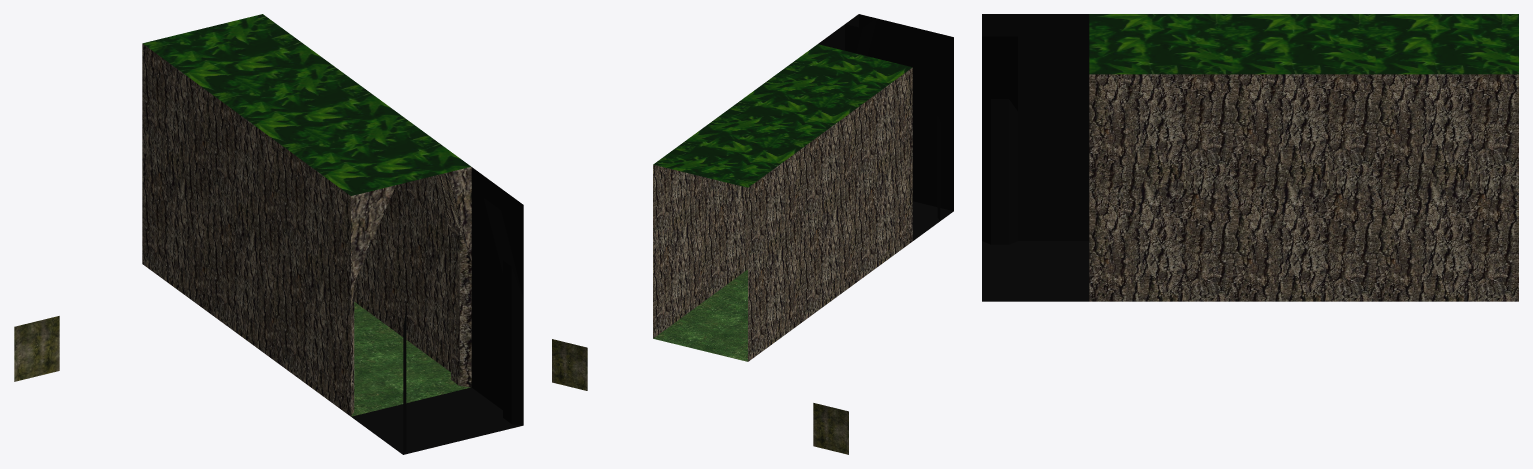
The model's file is woods1Entrance.gltf.
3 renders of one model, left to right at view 1: azimuth 30°, elevation 25°; view 2: azimuth 150°, elevation 25°; view 3: azimuth 270°, elevation 25°, orthographic. The views are drawn at different scales.
Parts seen in each view (by area): view 1: woods1Entrance; view 2: woods1Entrance; view 3: woods1Entrance.
Part boxes in pixels (x1,y1,x2,y2): woods1Entrance: (14,14,523,454); woods1Entrance: (552,14,953,454); woods1Entrance: (982,14,1518,301).
Bounding box in the file's own units: 25 × 19.5 × 30.
8 materials, 8 textured.
